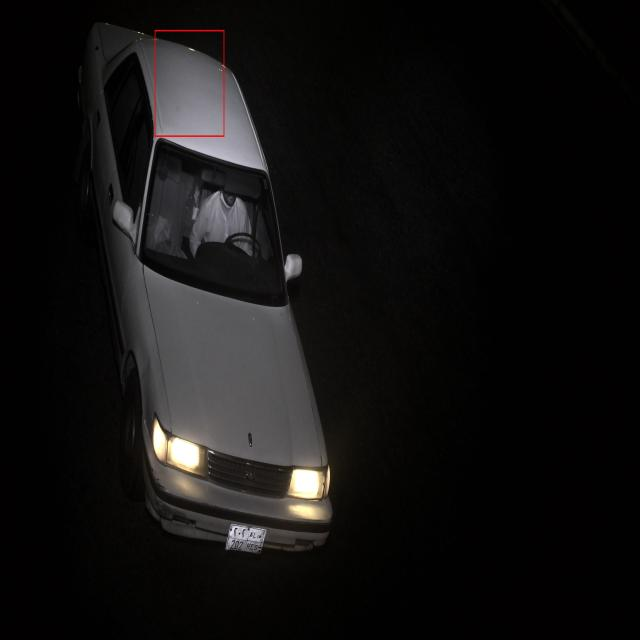windshield: (132, 125, 294, 317)
